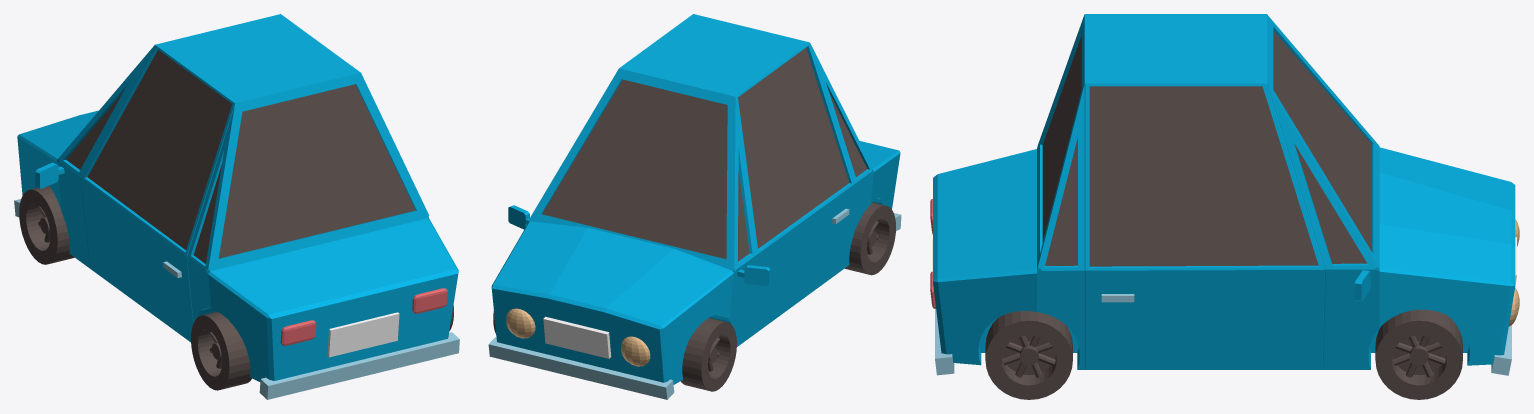
The model's file is car.gltf.
3 renders of one model, left to right at view 1: azimuth 30°, elevation 25°; view 2: azimuth 150°, elevation 25°; view 3: azimuth 270°, elevation 25°, orthographic. The views are drawn at different scales.
Visible parts, largest first — view 1: Body, window, wheek lines, rare bump, rare plate, rare light, mirror; view 2: Body, window, wheek lines, front bump, front plate, front lights, mirror; view 3: Body, window, wheek lines, rare bump, front bump.
Boxes of the visible parts, <box> form: Body: <box>17,14,458,381</box>; window: <box>66,50,415,263</box>; wheek lines: <box>19,186,453,390</box>; rare bump: <box>259,332,459,399</box>; rare plate: <box>327,312,399,357</box>; rare light: <box>280,288,447,345</box>; mirror: <box>35,162,64,188</box>; Body: <box>491,14,900,384</box>; window: <box>542,48,867,261</box>; wheek lines: <box>493,202,895,391</box>; front bump: <box>488,337,674,399</box>; front plate: <box>543,316,611,358</box>; front lights: <box>506,308,650,366</box>; mirror: <box>508,205,770,285</box>; Body: <box>933,14,1515,369</box>; window: <box>1042,31,1371,266</box>; wheek lines: <box>985,309,1462,399</box>; rare bump: <box>935,308,954,375</box>; front bump: <box>1491,325,1511,375</box>.
Size of the model in its own units: 2.53 by 2.19 by 4.04.
